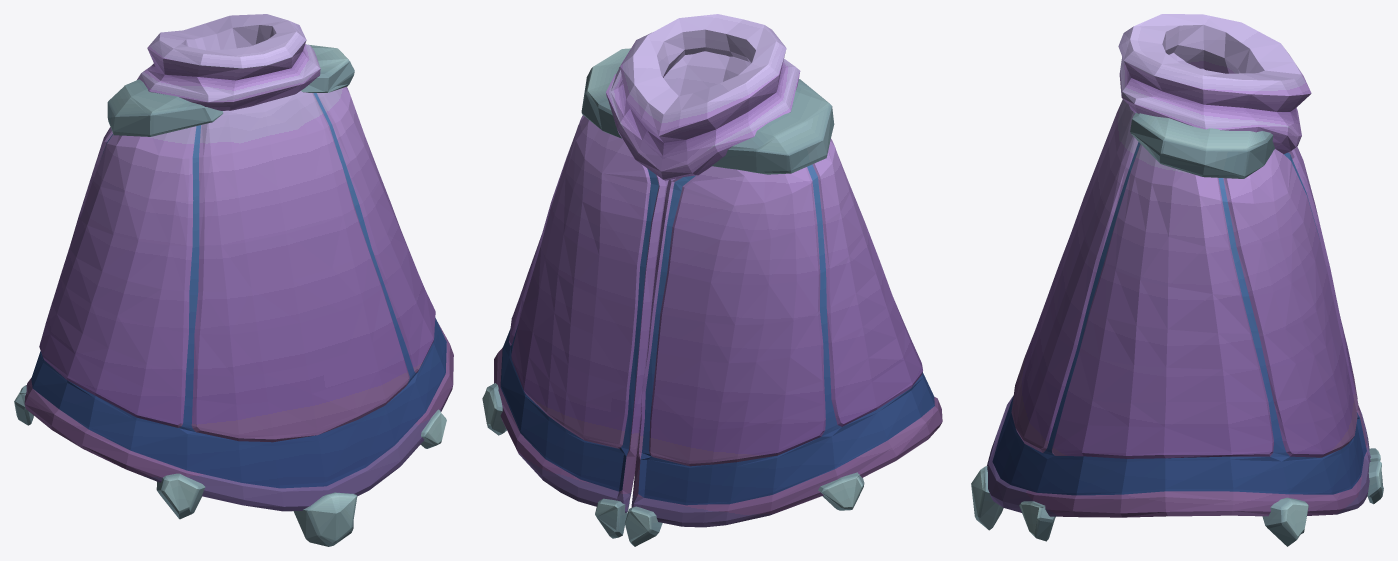
File: CharSkyKid_Wing_AP08Spider_01.glb
The picture shows the model from 3 angles, left to right: view 1: azimuth 30°, elevation 25°; view 2: azimuth 150°, elevation 25°; view 3: azimuth 270°, elevation 25°; orthographic projection. The views are drawn at different scales.
Parts seen in each view (by area): view 1: CharSkyKid_Wing_AP08Spider_01; view 2: CharSkyKid_Wing_AP08Spider_01; view 3: CharSkyKid_Wing_AP08Spider_01.
Boxes of the visible parts, bbox=[...] form: CharSkyKid_Wing_AP08Spider_01: bbox=[14, 14, 453, 546]; CharSkyKid_Wing_AP08Spider_01: bbox=[482, 14, 942, 546]; CharSkyKid_Wing_AP08Spider_01: bbox=[971, 14, 1383, 546].
Bounding box in the file's own units: 7.12 × 7.78 × 5.98.
Materials: 1 (1 with a texture image).
